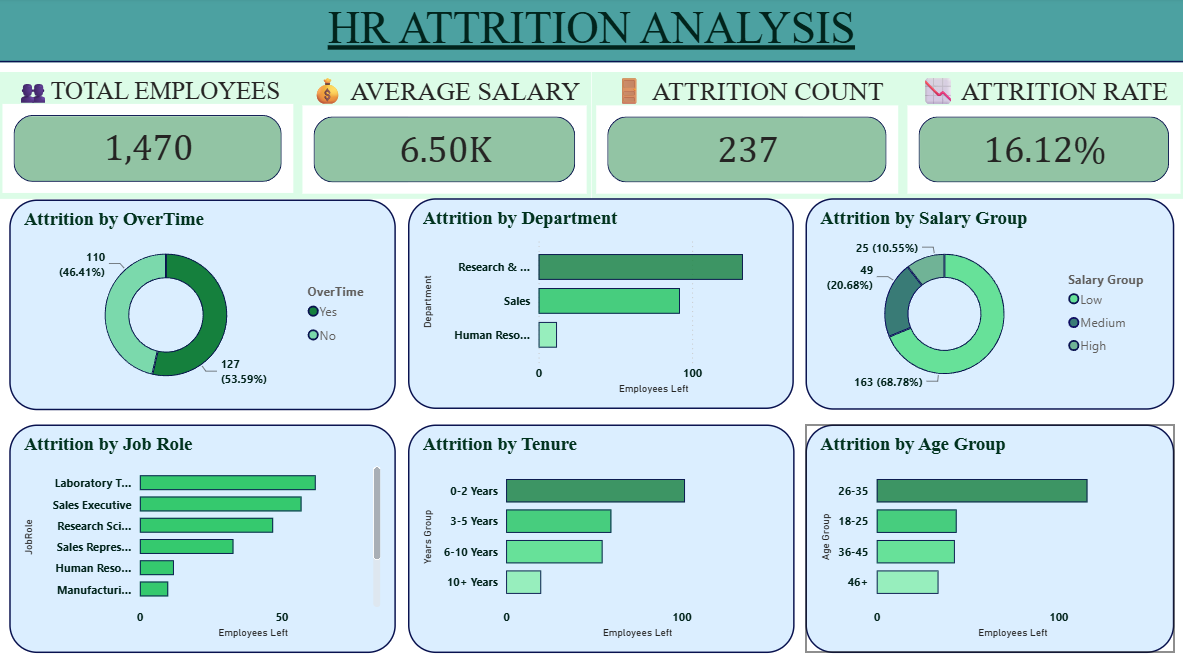

Layout of this report page (visuals, bound fields, positions):
{"tool":"powerbi","page":{"name":"Page 1","canvas":[1280,720],"ordinal":0},"visuals":[{"type":"cardVisual","title":"🚪 ATTRITION COUNT","fields":{"Data":["hr.Attrition Count"]},"box":[640.2,81,335.8,136.4],"z":0},{"type":"cardVisual","title":"👥TOTAL EMPLOYEES","fields":{"Data":["hr.Total Employees Display"]},"box":[0,81,323.8,136.4],"z":1000},{"type":"cardVisual","title":"💰 AVERAGE SALARY","fields":{"Data":["hr.Average Salary"]},"box":[323.8,81,316.3,136.4],"z":2000},{"type":"cardVisual","title":"📉 ATTRITION RATE","fields":{"Data":["Divide(hr.Attrition Rate, ScopedEval(hr.Attrition Rate, []))"]},"box":[976,81,304.3,136.4],"z":3000},{"type":"clusteredBarChart","title":"Attrition by Department","fields":{"Category":["hr.Department"],"Y":["hr.Employees Left"]},"box":[441.9,217.6,416.2,227],"z":4000},{"type":"donutChart","title":"Attrition by OverTime","fields":{"Category":["hr.OverTime"],"Y":["hr.Employees Left"]},"box":[12.1,217.9,416.9,227.3],"z":5000},{"type":"donutChart","title":"Attrition by Salary Group","fields":{"Category":["hr.Salary Group"],"Y":["hr.Employees Left"]},"box":[870.6,217,397.6,227.8],"z":6000},{"type":"clusteredBarChart","title":"Attrition by Job Role","fields":{"Y":["hr.Employees Left"],"Category":["hr.JobRole"]},"box":[12.1,460.9,416.4,246.6],"z":7000},{"type":"clusteredBarChart","title":"Attrition by Tenure","fields":{"Category":["hr.Years Group"],"Y":["hr.Employees Left"]},"box":[442,460.9,416.4,246.6],"z":8000},{"type":"clusteredBarChart","title":"Attrition by Age Group","fields":{"Category":["hr.Age Group"],"Y":["hr.Employees Left"]},"box":[870.6,460.9,397.6,246.6],"z":9000},{"type":"textbox","box":[0,0,1280.3,70.1],"z":10000}]}

Visuals, with their boxes in screenshot pixels (x1, y1, x2, y2), scaled from the page's 1280x720 canvas onto the 1183x662 screenshot:
"🚪 ATTRITION COUNT" cardVisual: Rect(592, 74, 902, 200)
"👥TOTAL EMPLOYEES" cardVisual: Rect(0, 74, 299, 200)
"💰 AVERAGE SALARY" cardVisual: Rect(299, 74, 592, 200)
"📉 ATTRITION RATE" cardVisual: Rect(902, 74, 1182, 200)
"Attrition by Department" clusteredBarChart: Rect(408, 200, 793, 409)
"Attrition by OverTime" donutChart: Rect(11, 200, 396, 409)
"Attrition by Salary Group" donutChart: Rect(805, 200, 1172, 409)
"Attrition by Job Role" clusteredBarChart: Rect(11, 424, 396, 651)
"Attrition by Tenure" clusteredBarChart: Rect(409, 424, 793, 651)
"Attrition by Age Group" clusteredBarChart: Rect(805, 424, 1172, 651)
textbox: Rect(0, 0, 1182, 64)
